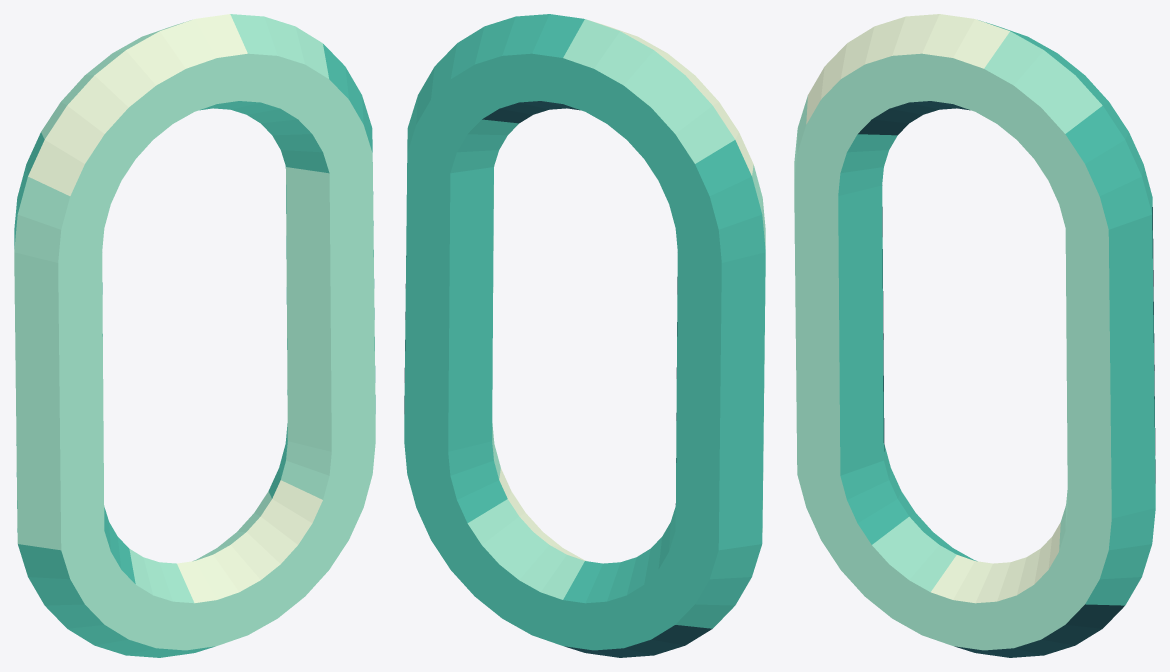
File: chain_link.glb
The picture shows the model from 3 angles, left to right: view 1: azimuth 30°, elevation 25°; view 2: azimuth 150°, elevation 25°; view 3: azimuth 330°, elevation 25°; orthographic projection.
Visible parts, largest first — view 1: chain_link; view 2: chain_link; view 3: chain_link.
Part boxes in pixels (x1,y1,x2,y2): chain_link: (14,14,375,657); chain_link: (404,14,765,657); chain_link: (794,14,1155,657).
Size of the model in its own units: 0.74 by 1.24 by 0.1559.
